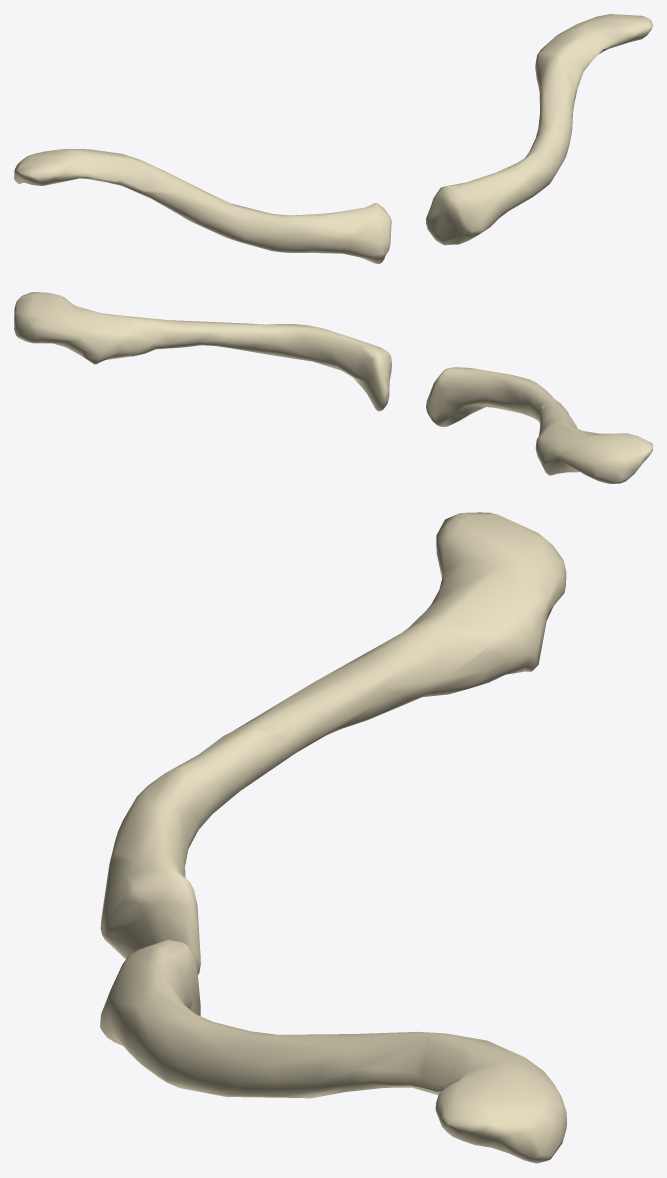
File: clavicle.glb
3 views of the same model, one above another, from view 1: azimuth 30°, elevation 25°; view 2: azimuth 150°, elevation 25°; view 3: azimuth 270°, elevation 25° (orthographic). The views are drawn at different scales.
Parts seen in each view (by area): view 1: Clavicle; view 2: Clavicle; view 3: Clavicle.
Part boxes in pixels (x1=…): Clavicle: x1=14, y1=14, x2=652, y2=263; Clavicle: x1=14, y1=292, x2=652, y2=483; Clavicle: x1=100, y1=512, x2=566, y2=1163.
Bounding box in the file's own units: 0.2892 × 0.0469 × 0.0927.
